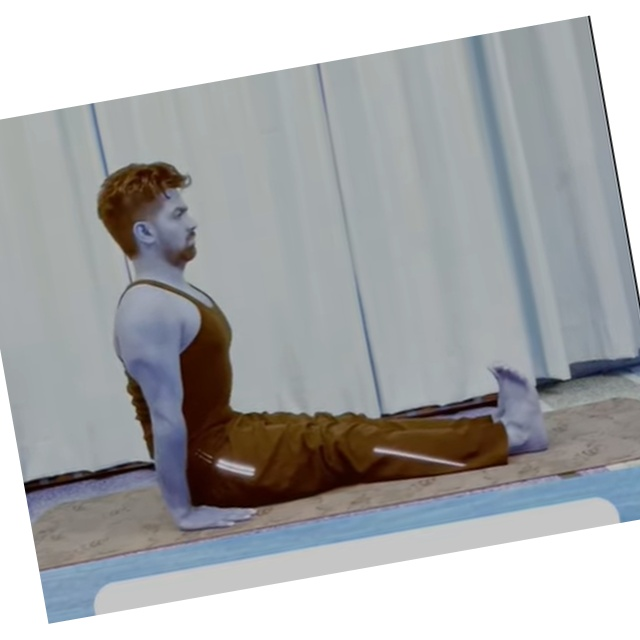Staff_Pose: (109, 161, 556, 533)
